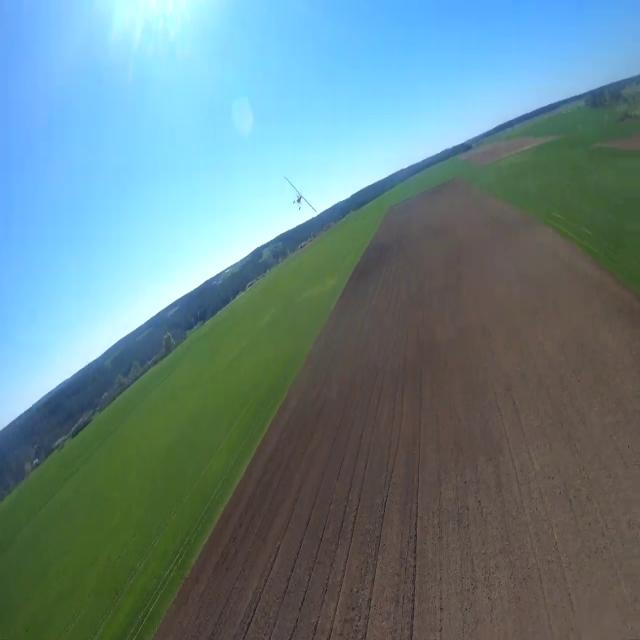iha: (282, 172, 319, 218)
